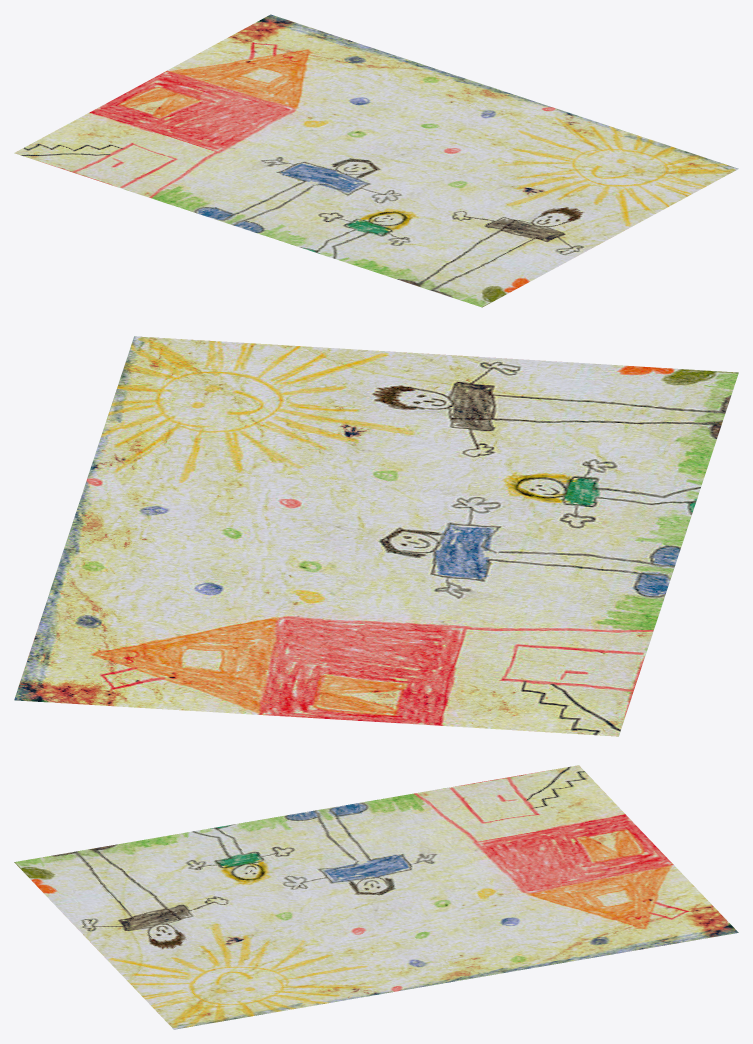
The model's file is Paper4.fbx.
3 renders of one model, top to bottom at view 1: azimuth 30°, elevation 25°; view 2: azimuth 150°, elevation 25°; view 3: azimuth 270°, elevation 25°, orthographic. The views are drawn at different scales.
Parts seen in each view (by area): view 1: Paper4:pPlane2; view 2: Paper4:pPlane2; view 3: Paper4:pPlane2.
Boxes of the visible parts, x1,y1,x2,y2 form: Paper4:pPlane2: [14, 14, 738, 307]; Paper4:pPlane2: [14, 336, 738, 736]; Paper4:pPlane2: [14, 765, 738, 1029].
Bounding box in the file's own units: 5.12 × 0.0022 × 5.93.
1 material, 1 textured.
